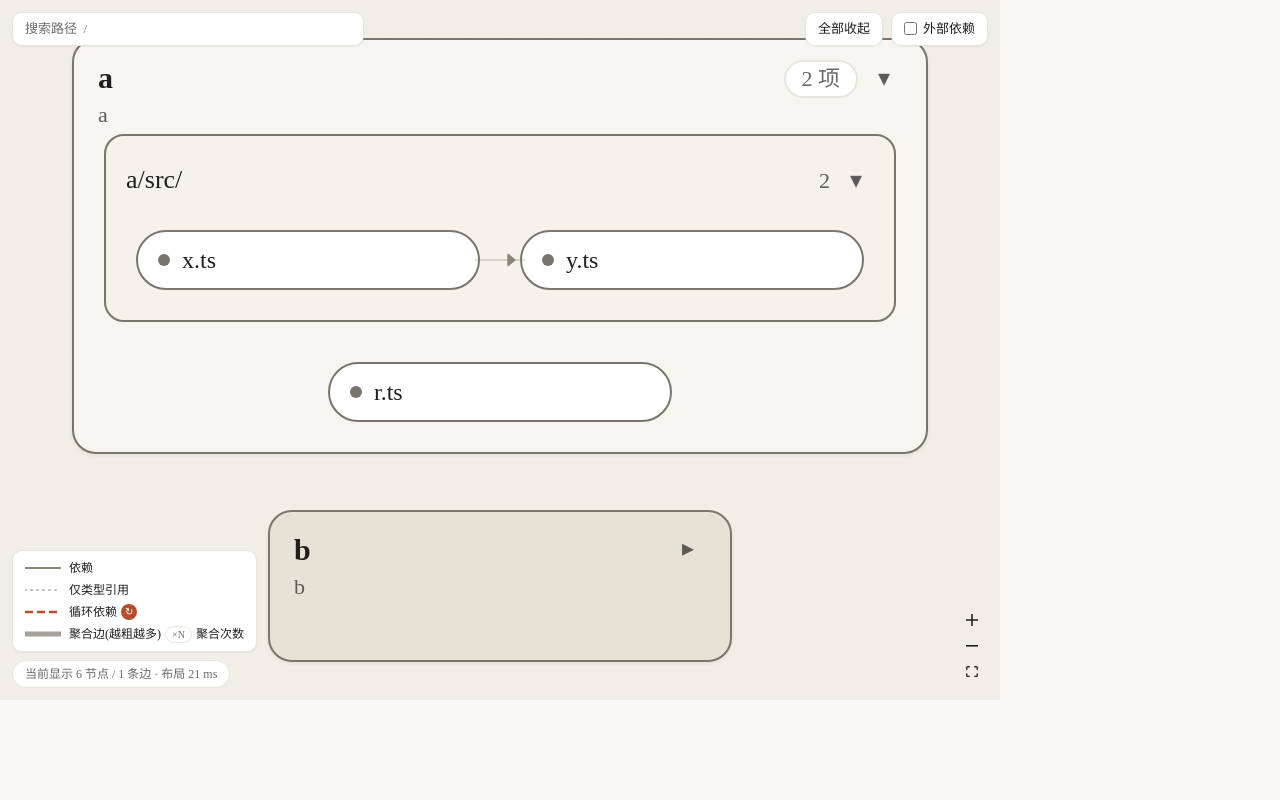
Scenario: <GraphView> 真实接口:聚合边、边界节点、截断提示 › suggestedFocus:首次加载沿 parentId 链逐层请求并展开;手动折叠后不再自动展开
Expected: the message shows "当前显示 6 节点 / 1 条边", [25, 667, 217, 681]
Expected: the element with test id "node-m:b" is shown, [268, 510, 732, 662]
Click the button named "收起 a/src": (856, 180) [838, 164, 874, 196]
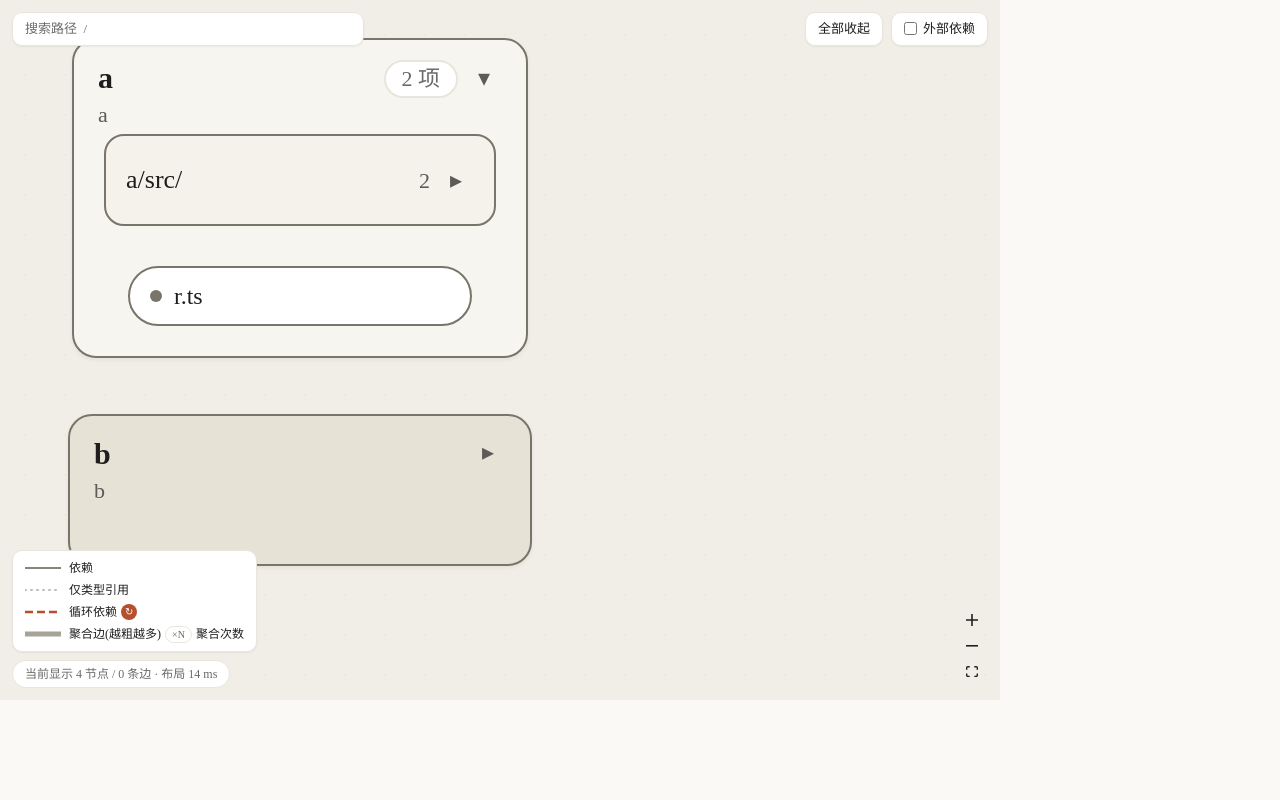
Expected: the message shows "当前显示 4 节点 / 0 条边", [25, 667, 217, 681]
Expected: the message shows "当前显示 4 节点", [25, 667, 217, 681]
Expected: the button named "展开 a/src" is shown, [438, 164, 474, 196]
